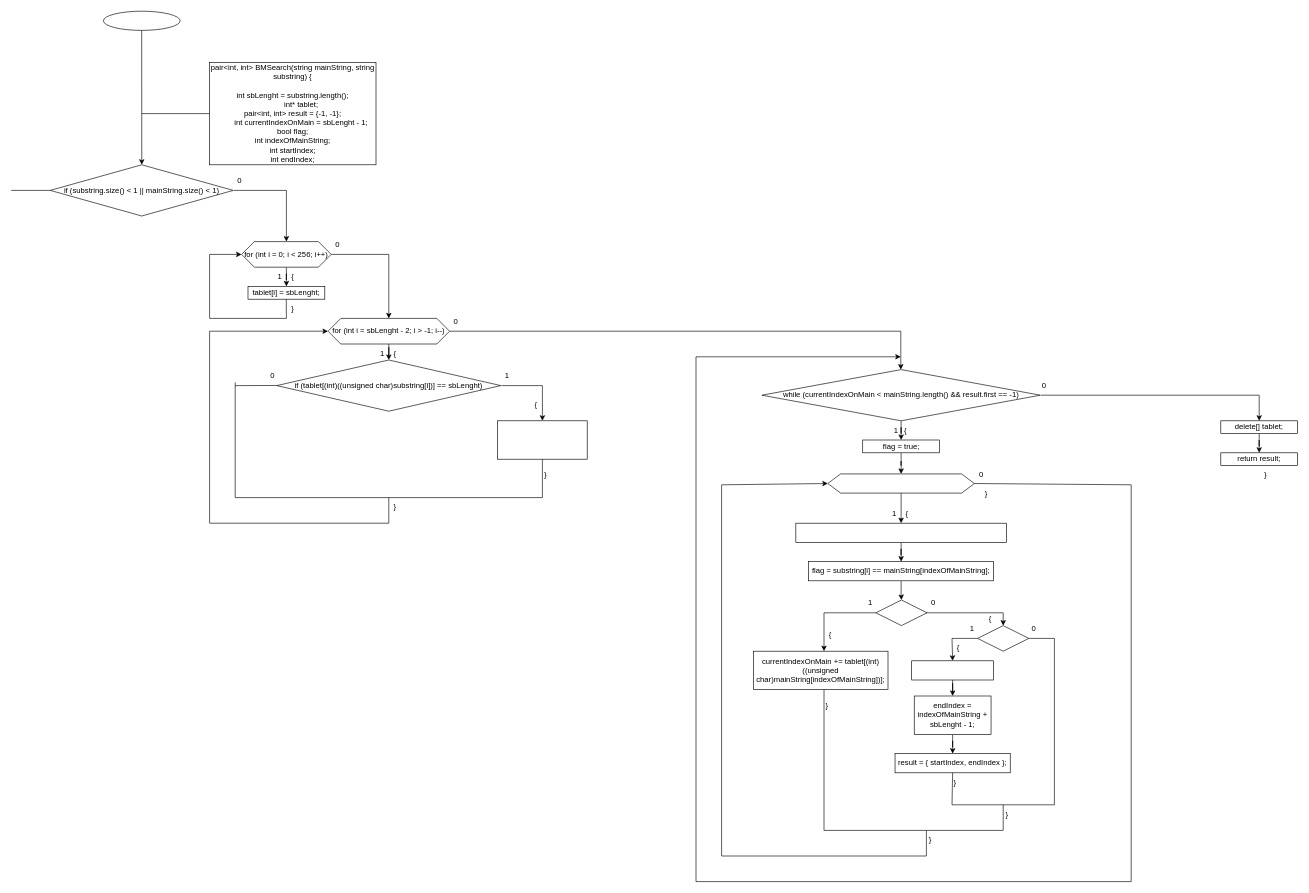
This 1309x893 diagram has some shape labels left out. The shapes that lost their labels are listed below. From the top down, each one's centre as x and y in pixels, then its label:
[141,20]: начало
[542,439]: tablet[(int)((unsigned char)substring[i])] = sbLenght - i - 1;
[900,483]: for (int i = sbLenght - 1; i > -1 && flag; i--)
[900,532]: indexOfMainString = currentIndexOnMain - sbLenght + i + 1;
[901,612]: if (!flag)
[1003,638]: if (i == 0)
[952,670]: startIndex = indexOfMainString;
